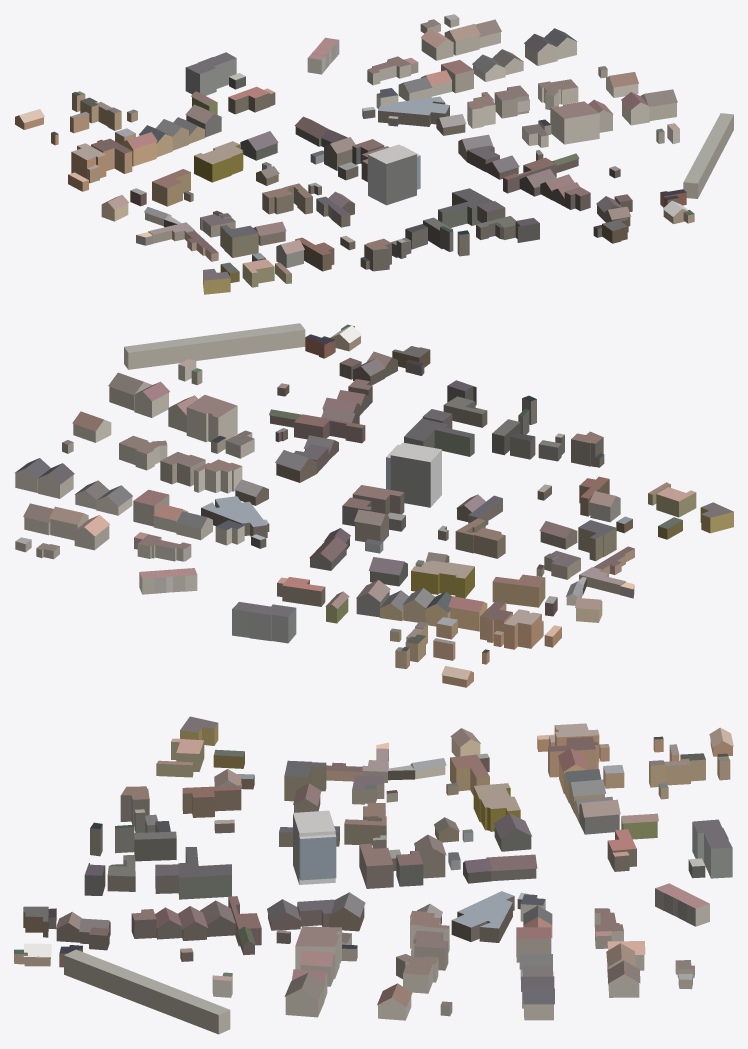
3 views of the same model, one above another, from view 1: azimuth 30°, elevation 25°; view 2: azimuth 150°, elevation 25°; view 3: azimuth 270°, elevation 25° (orthographic). The views are drawn at different scales.
Parts seen in each view (by area): view 1: tuile; view 2: tuile; view 3: tuile.
Part boxes in pixels (x1,y1,x2,y2): tuile: (15, 14, 733, 294); tuile: (15, 323, 733, 687); tuile: (14, 716, 733, 1034).
Size of the model in its own units: 268 by 26.94 by 247.
